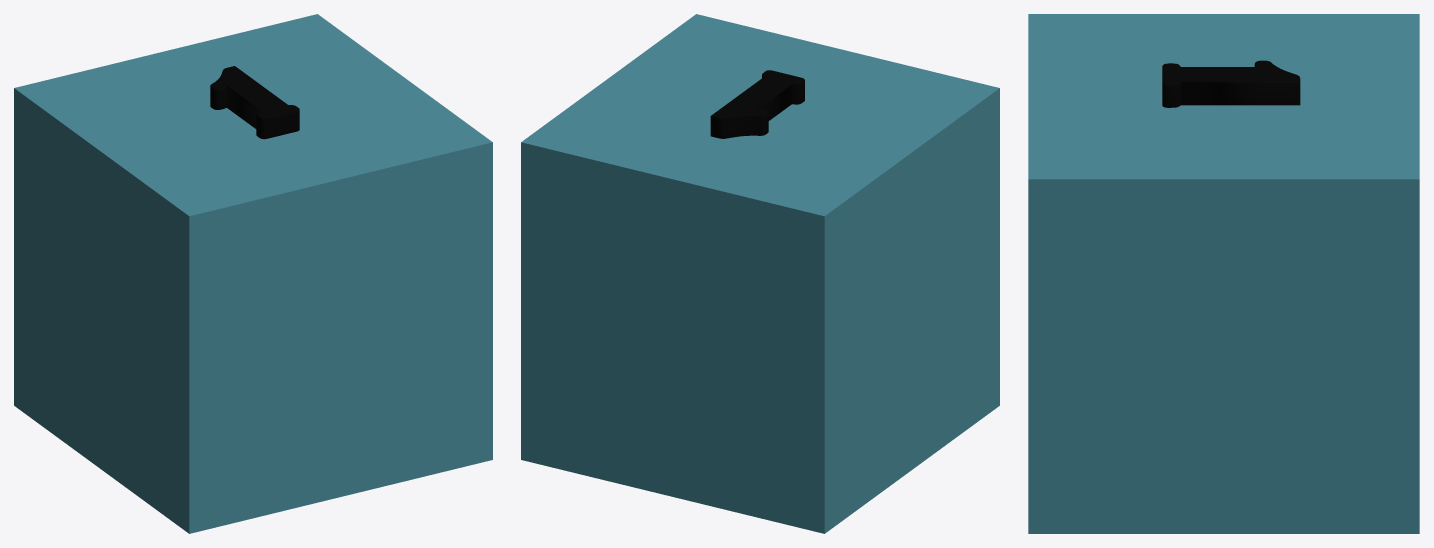
Rendered from level_button.fbx.
3 renders of one model, left to right at view 1: azimuth 30°, elevation 25°; view 2: azimuth 150°, elevation 25°; view 3: azimuth 270°, elevation 25°, orthographic. The views are drawn at different scales.
Visible parts, largest first — view 1: Level; view 2: Level; view 3: Level.
Boxes of the visible parts, x1,y1,x2,y2 form: Level: [14, 14, 492, 533]; Level: [521, 14, 999, 533]; Level: [1028, 14, 1419, 533].
Bounding box in the file's own units: 200 × 213 × 200.
